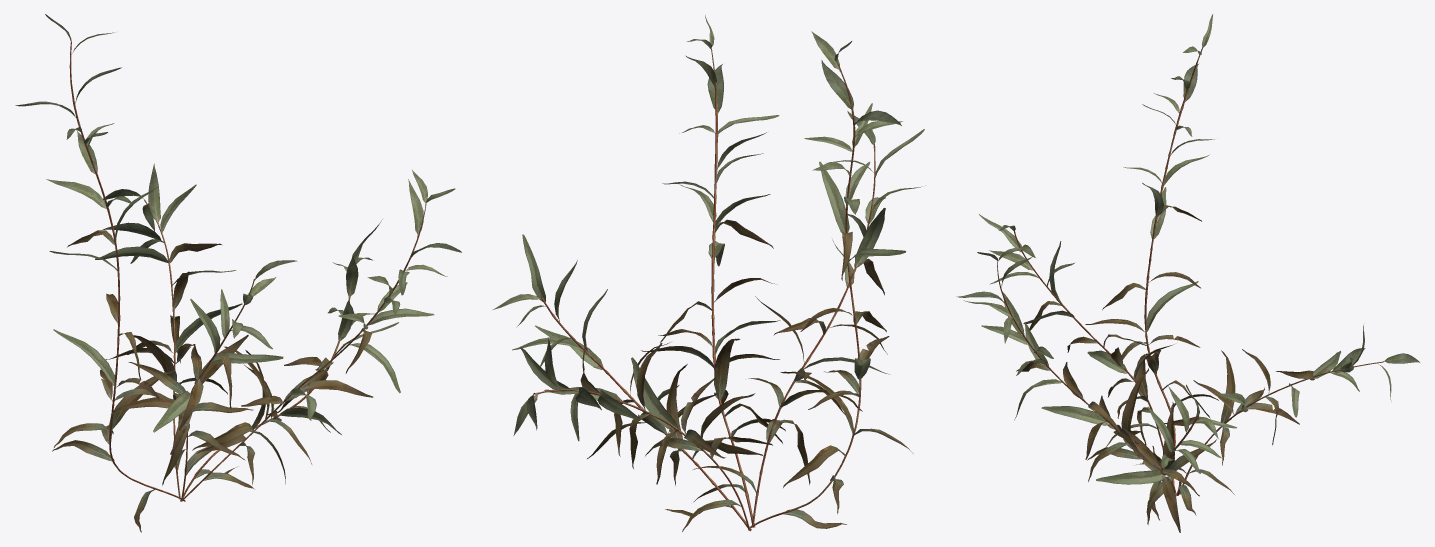
Rendered from arbusto_mata_b.glb.
3 renders of one model, left to right at view 1: azimuth 30°, elevation 25°; view 2: azimuth 150°, elevation 25°; view 3: azimuth 270°, elevation 25°, orthographic. The views are drawn at different scales.
Parts seen in each view (by area): view 1: shrub_02_a; view 2: shrub_02_a; view 3: shrub_02_a.
Boxes of the visible parts, bbox=[...] form: shrub_02_a: bbox=[15, 14, 461, 532]; shrub_02_a: bbox=[492, 15, 924, 531]; shrub_02_a: bbox=[956, 14, 1419, 532].
Bounding box in the file's own units: 1.31 × 1.69 × 1.64.
Materials: 1 (1 with a texture image).
